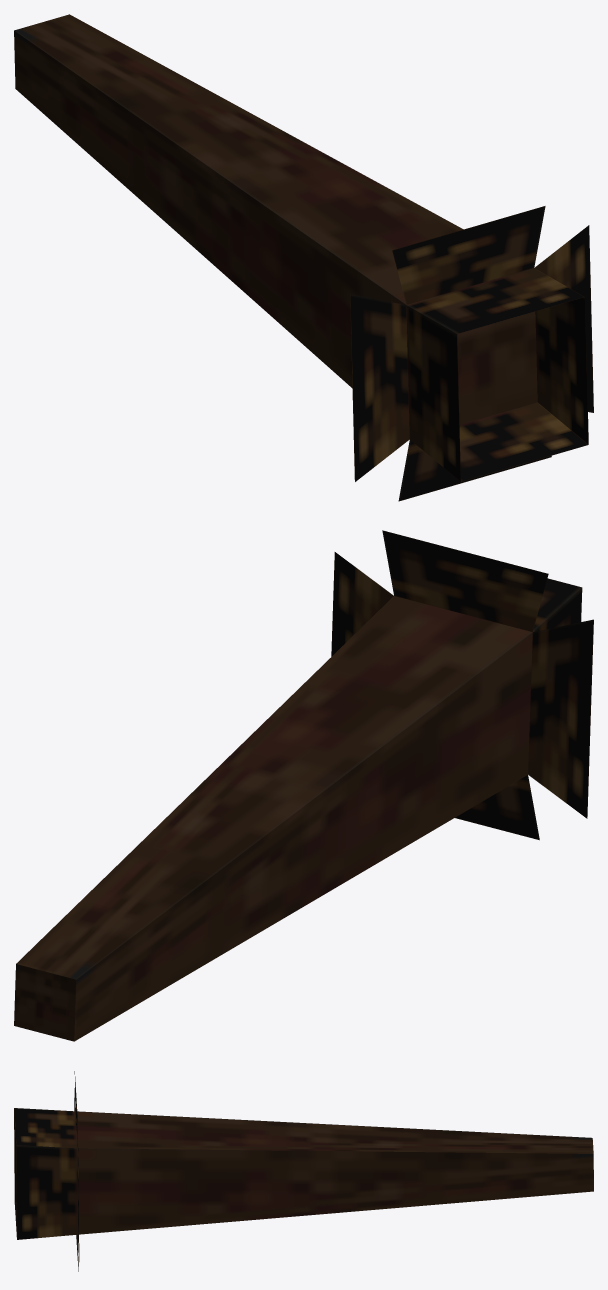
Rendered from ettinclub.obj.
3 views of the same model, one above another, from view 1: azimuth 30°, elevation 25°; view 2: azimuth 150°, elevation 25°; view 3: azimuth 270°, elevation 25° (orthographic). The views are drawn at different scales.
Parts seen in each view (by area): view 1: ettinclub; view 2: ettinclub; view 3: ettinclub.
Boxes of the visible parts, left/top/right/bottom form: ettinclub: left=14, top=14, right=593, bottom=501; ettinclub: left=14, top=530, right=593, bottom=1041; ettinclub: left=14, top=1071, right=593, bottom=1271.
Bounding box in the file's own units: 0.4517 × 0.4504 × 1.46.
